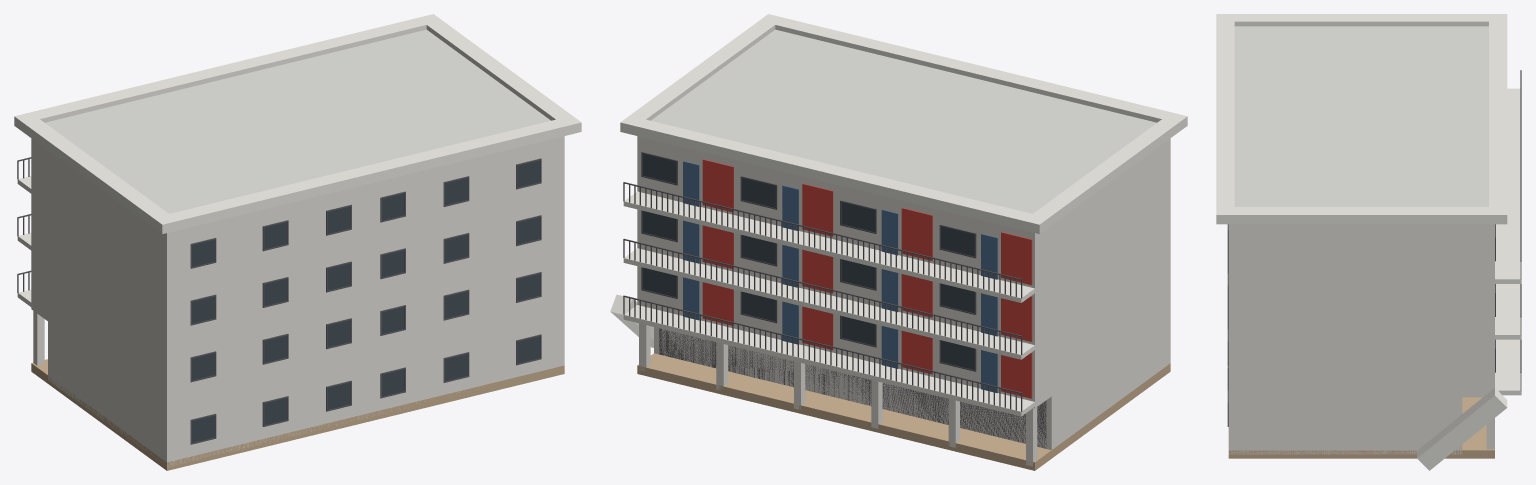
The model's file is ca_apartments4_b.glb.
3 renders of one model, left to right at view 1: azimuth 30°, elevation 25°; view 2: azimuth 150°, elevation 25°; view 3: azimuth 270°, elevation 25°, orthographic.
Parts seen in each view (by area): view 1: ca_apartments4_b; view 2: ca_apartments4_b; view 3: ca_apartments4_b.
Boxes of the visible parts, <box> form: ca_apartments4_b: <box>14,14,581,470</box>; ca_apartments4_b: <box>610,14,1187,470</box>; ca_apartments4_b: <box>1216,14,1521,470</box>.
Bounding box in the file's own units: 23.75 × 13.54 × 14.9.
